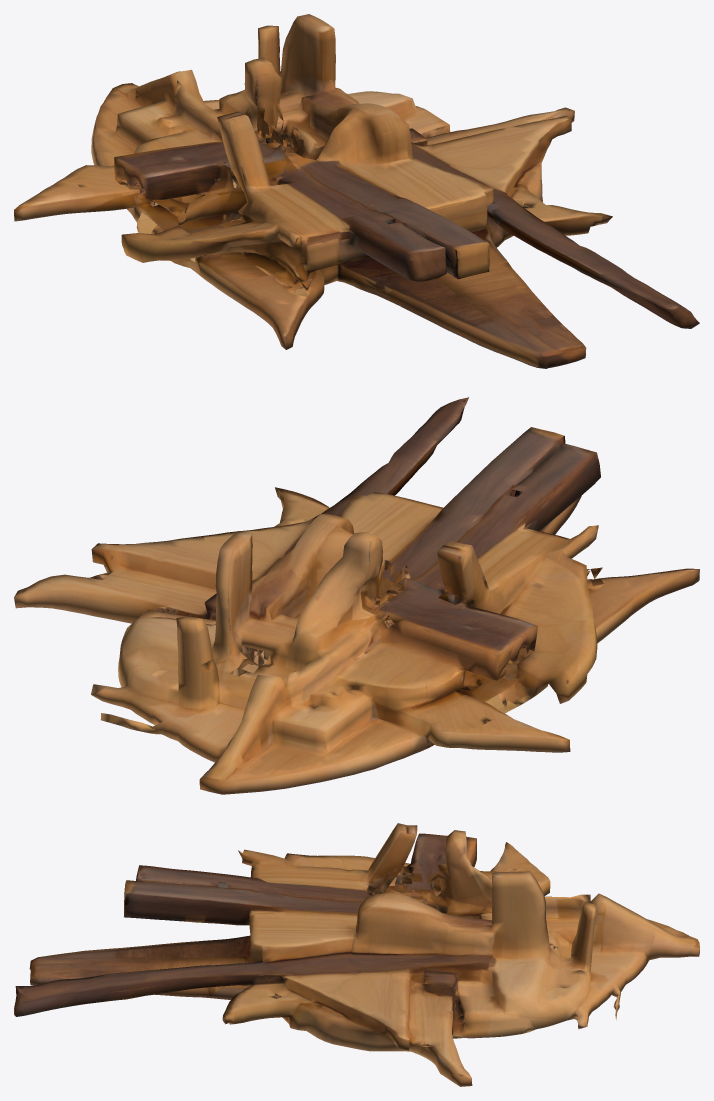
File: Wooden_Geometry.glb
The picture shows the model from 3 angles, top to bottom: view 1: azimuth 30°, elevation 25°; view 2: azimuth 150°, elevation 25°; view 3: azimuth 270°, elevation 25°; orthographic projection. The views are drawn at different scales.
Bounding box in the file's own units: 1.56 × 0.3962 × 2.
Materials: 1 (1 with a texture image).
